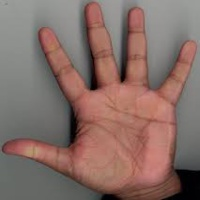ring: (124, 5, 153, 93)
